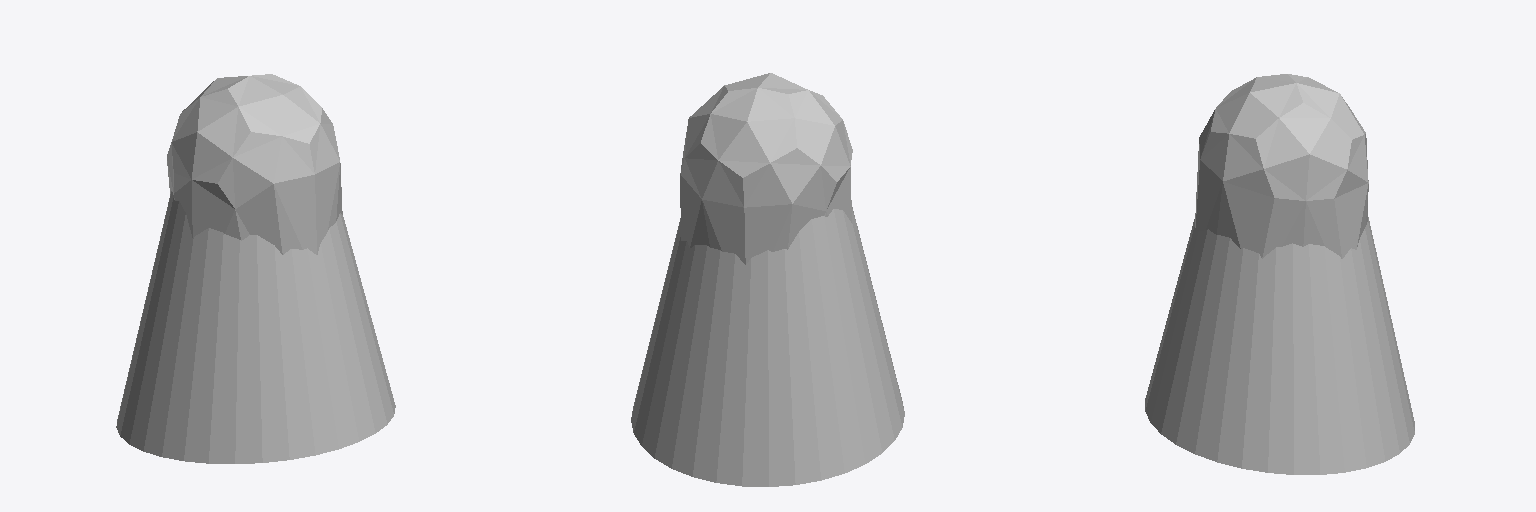
Rendered from snowman_col.obj.
3 views of the same model, side by side, from view 1: azimuth 30°, elevation 25°; view 2: azimuth 150°, elevation 25°; view 3: azimuth 270°, elevation 25° (orthographic).
Size of the model in its own units: 0.9389 by 1.29 by 0.9108.